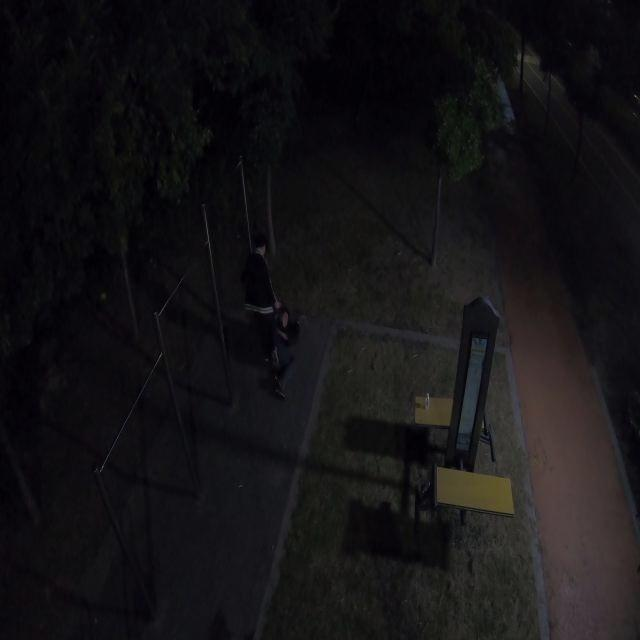fight: (235, 240, 307, 396)
